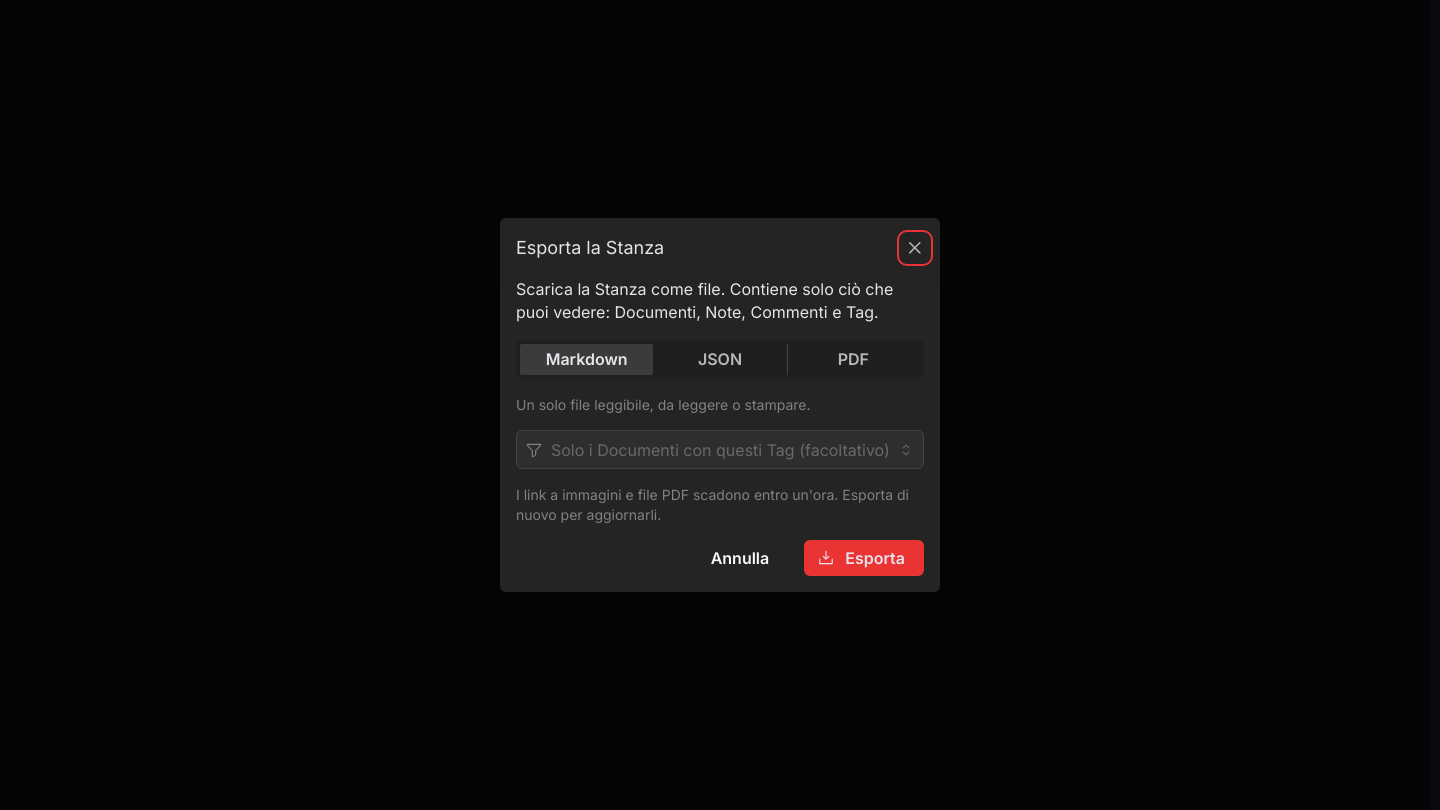
ExportRoomModal, PDF format (spec 23b Frontend) › offers the PDF after Markdown and JSON, with its own options and hint
This screenshot has width=1440, height=810.
Expected: the dialog "Esporta la Stanza" is shown, [500, 218, 940, 592]
What coordinates should you click on to do the following:
click the text "PDF"
I would click on:
 (853, 359)
Its box is [838, 349, 869, 369].
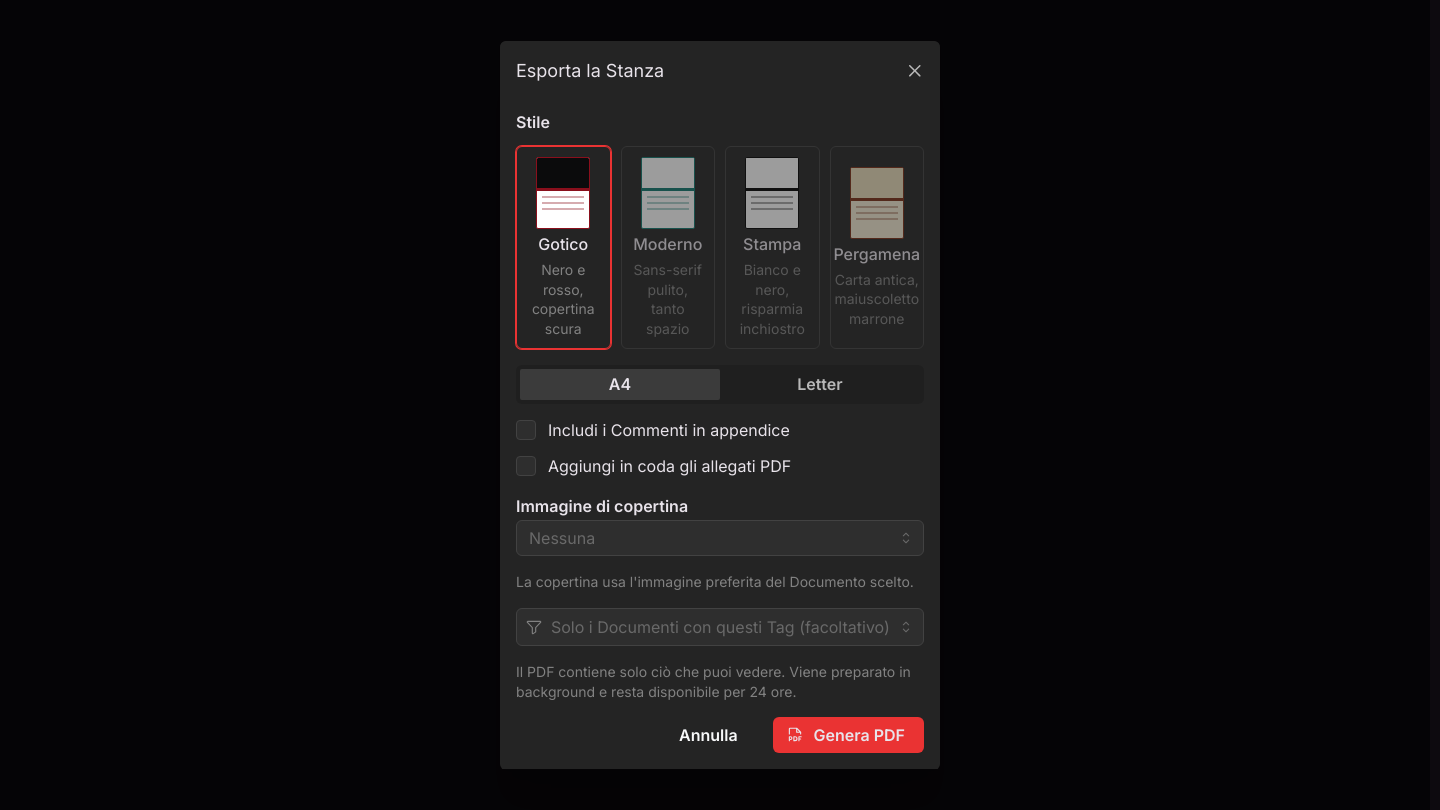
Expected: the text "Un manuale impaginato da stampare o consegnare ai giocatori." is shown, [516, 53, 924, 92]
Expected: the radio button labelled "Gotico Nero e rosso, copertina scura" is checked, [516, 146, 610, 349]
Expected: the radio button labelled "A4" is checked, [609, 374, 631, 394]
